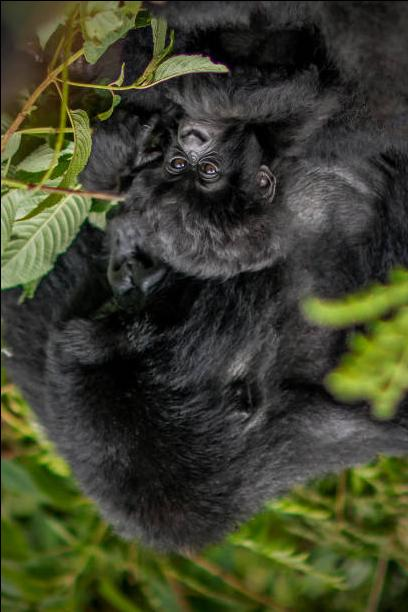goriile_montagne: (20, 186, 380, 555), (108, 26, 366, 290)
